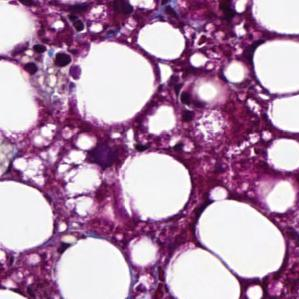inflammation: (50, 44, 87, 83)
